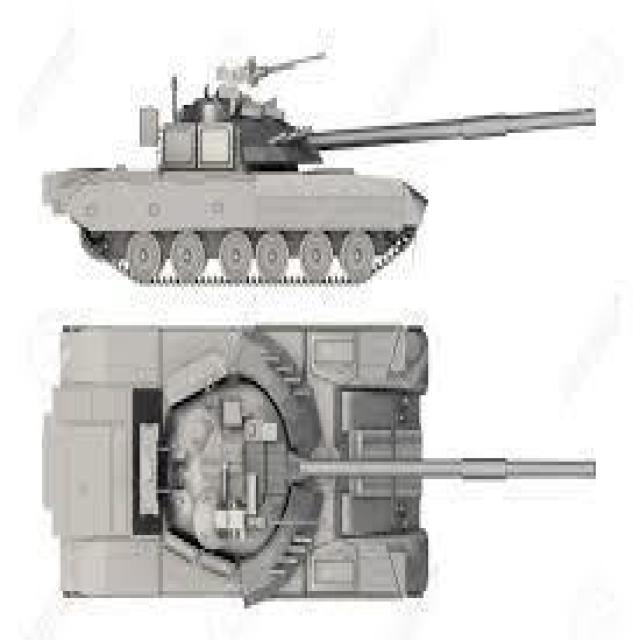Tanks: (39, 299, 592, 603), (44, 38, 594, 290)
